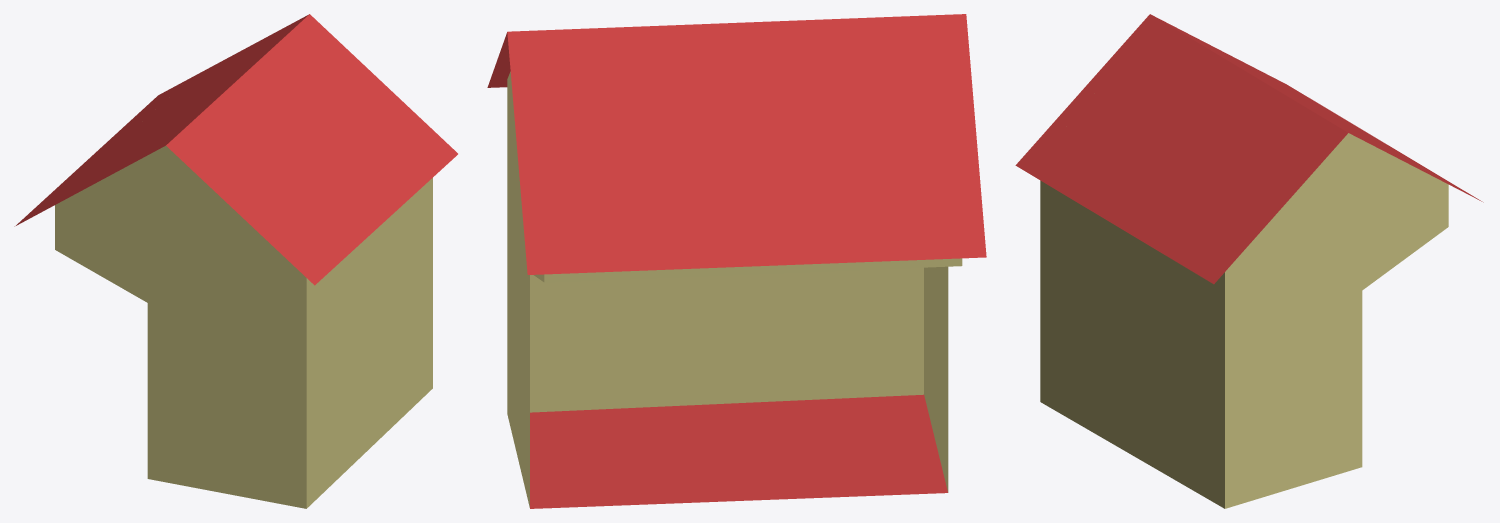
3 renders of one model, left to right at view 1: azimuth 30°, elevation 25°; view 2: azimuth 150°, elevation 25°; view 3: azimuth 270°, elevation 25°, orthographic. The views are drawn at different scales.
Size of the model in its own units: 13.8 by 13.71 by 11.13.
